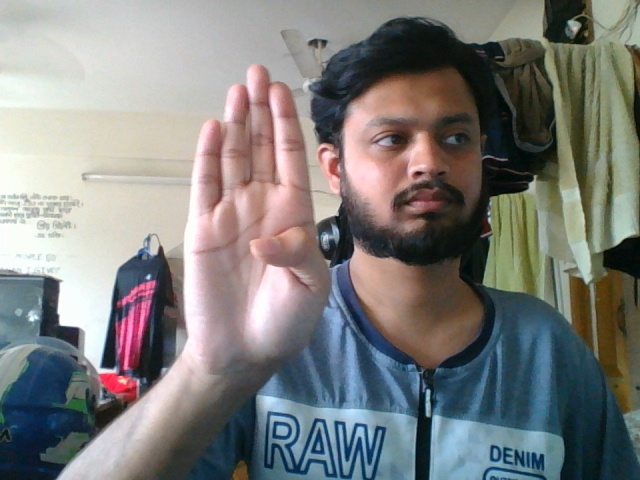ba: (168, 58, 340, 419)
